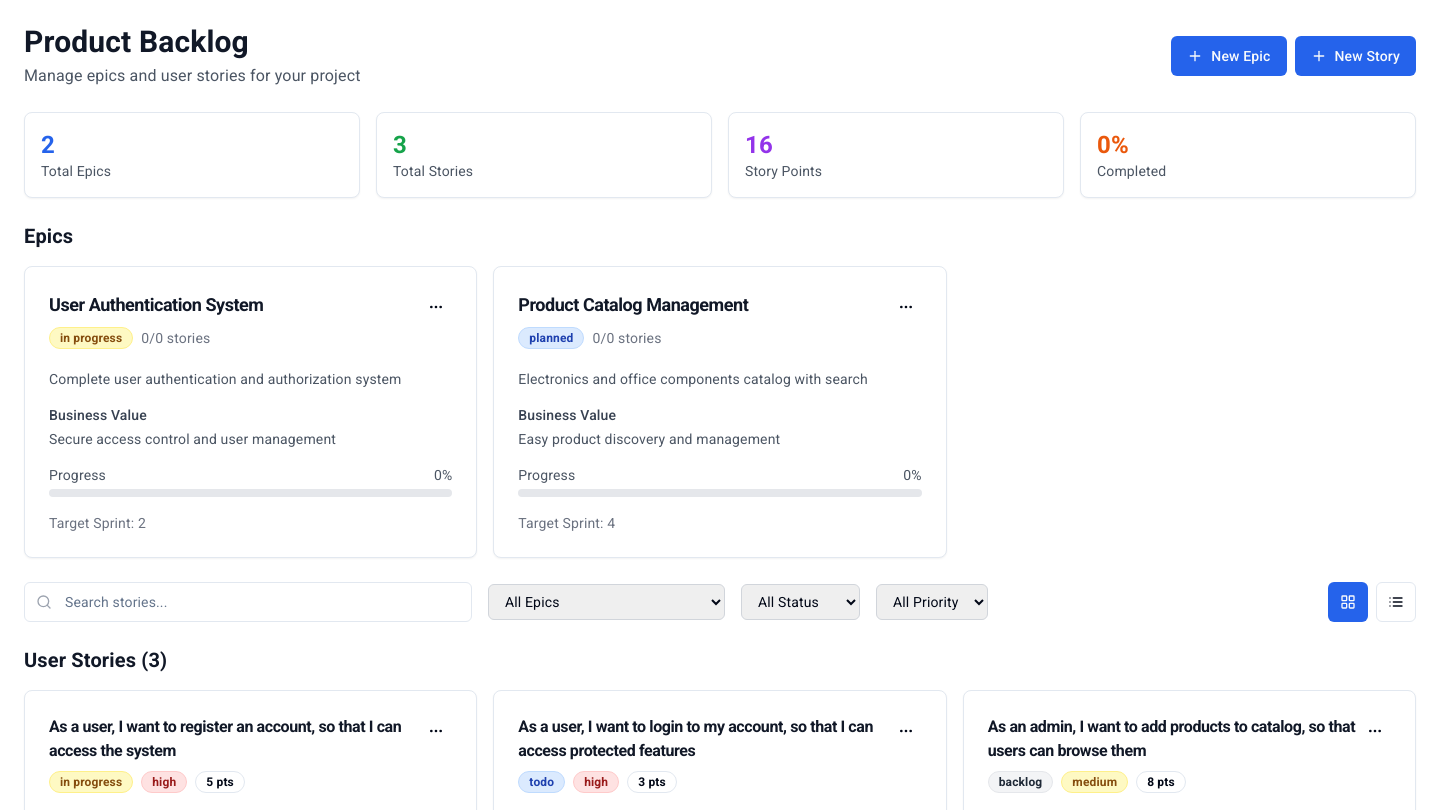
BacklogManagement › creates new epic successfully
This screenshot has width=1440, height=810.
Click the button "New Epic": coordinates (1229, 56) [1171,36,1286,76]
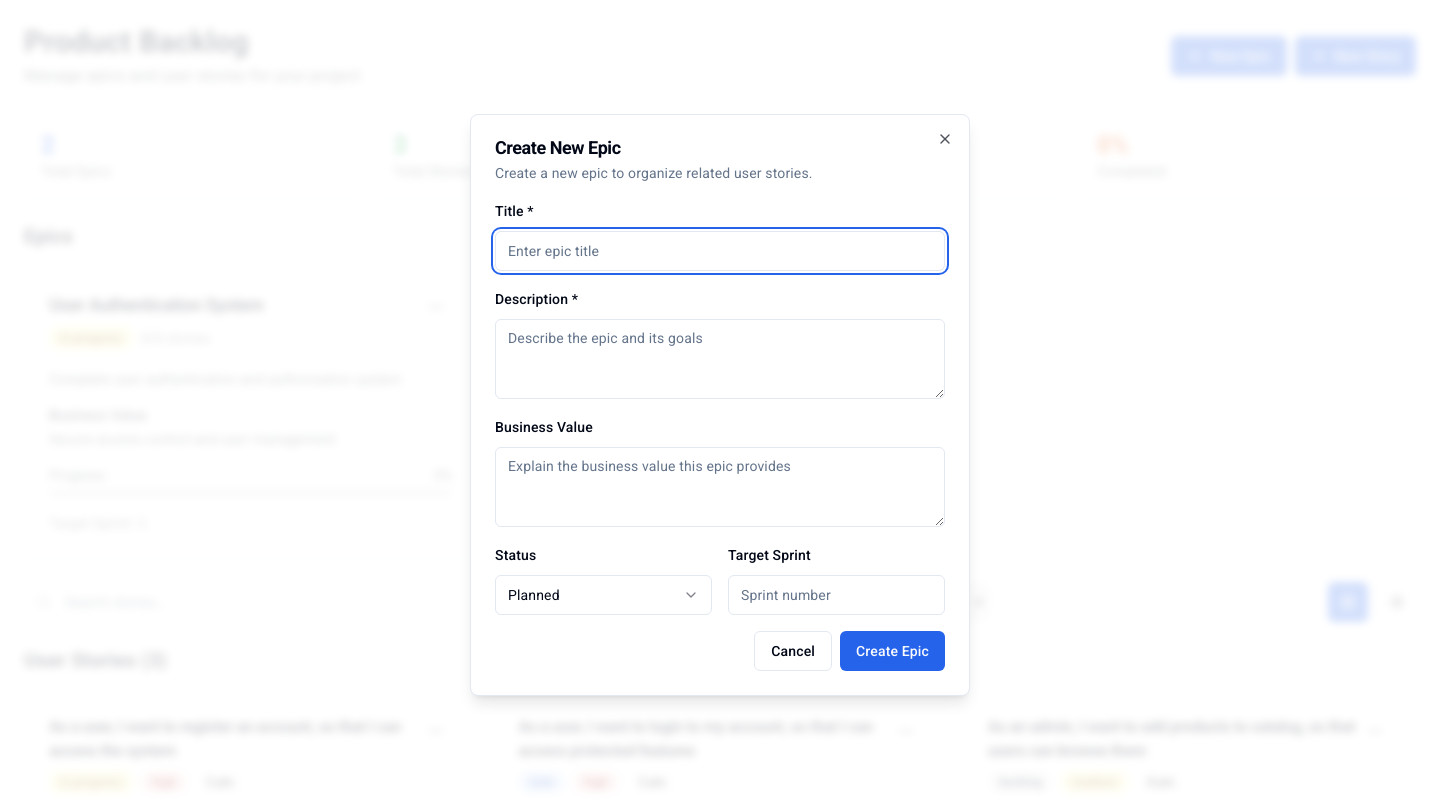
In the field labelled "Title *": coordinates (720, 251) [495,231,945,271], type "New Test Epic"
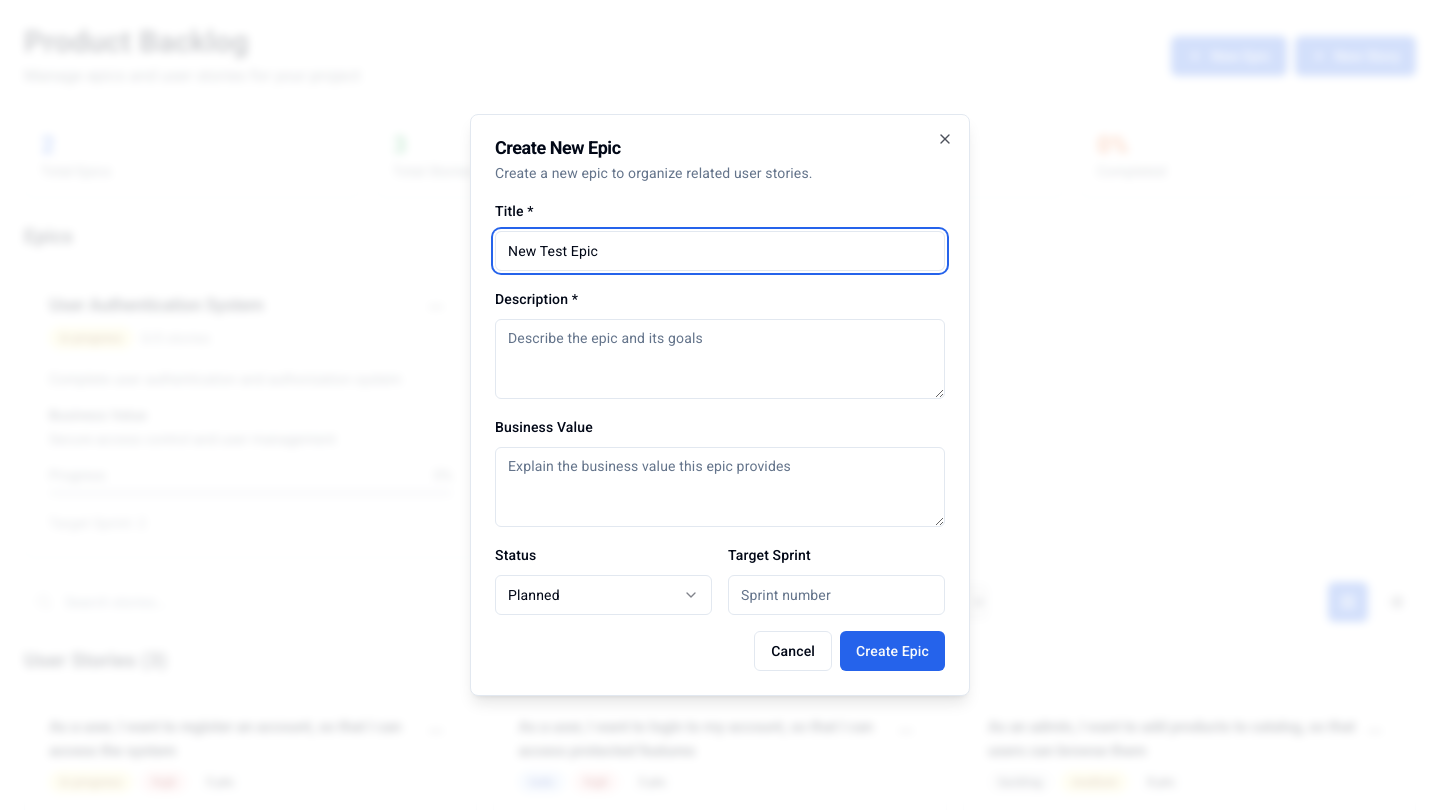
In the text box labelled "Description *": coordinates (720, 359) [495,319,945,399], type "New test description"
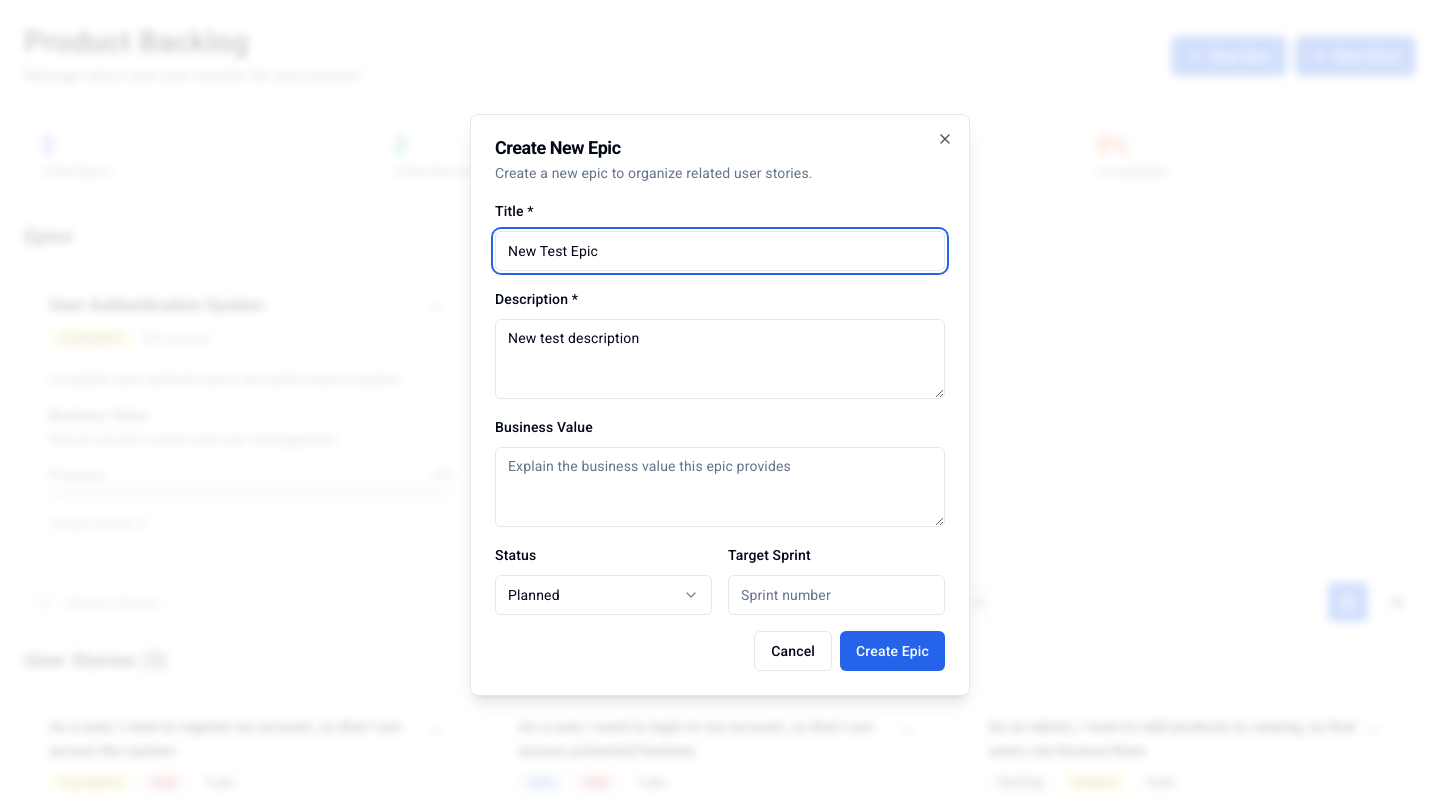
Click the button "Create Epic": coordinates (892, 651) [840,631,945,671]
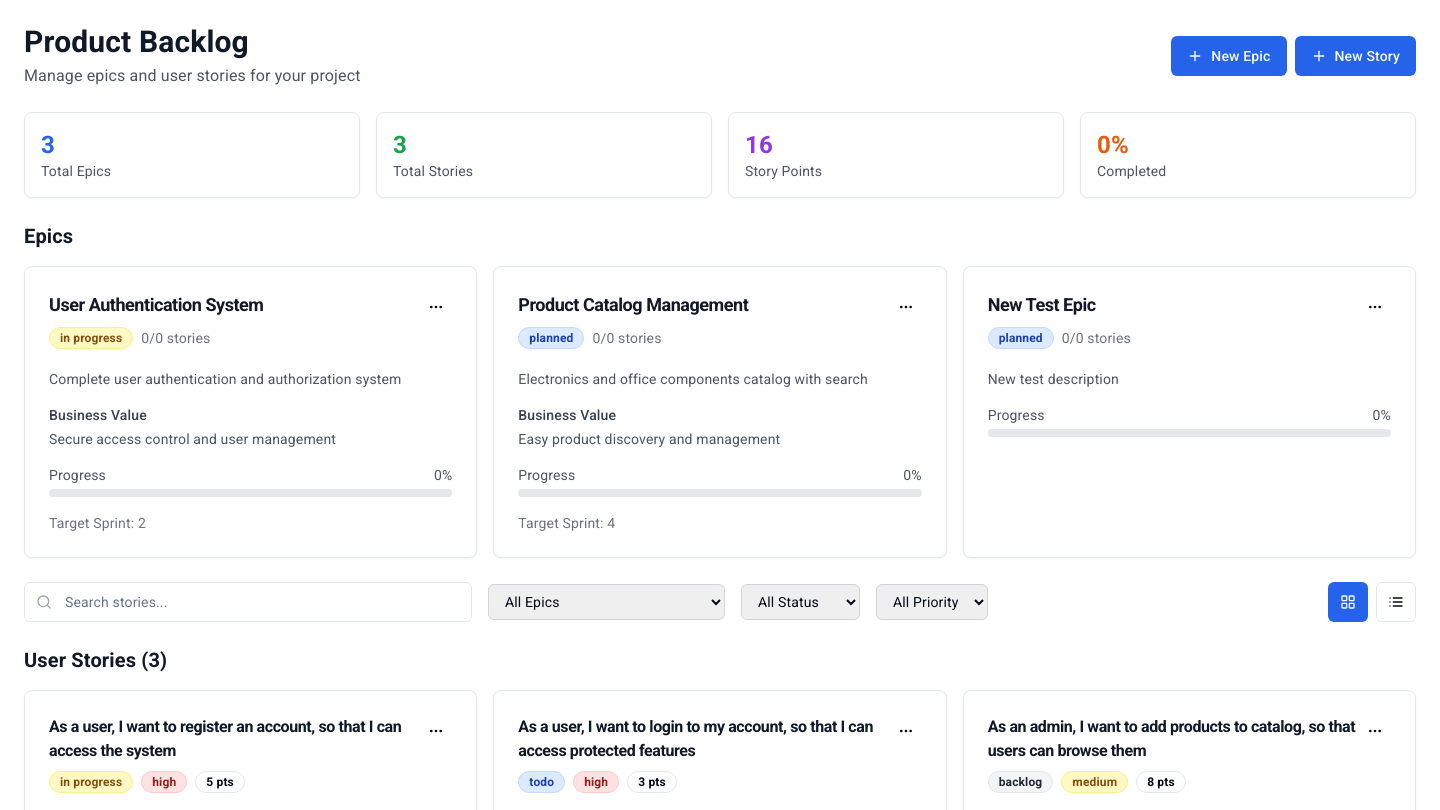
Result: the heading "Create New Epic" is gone
